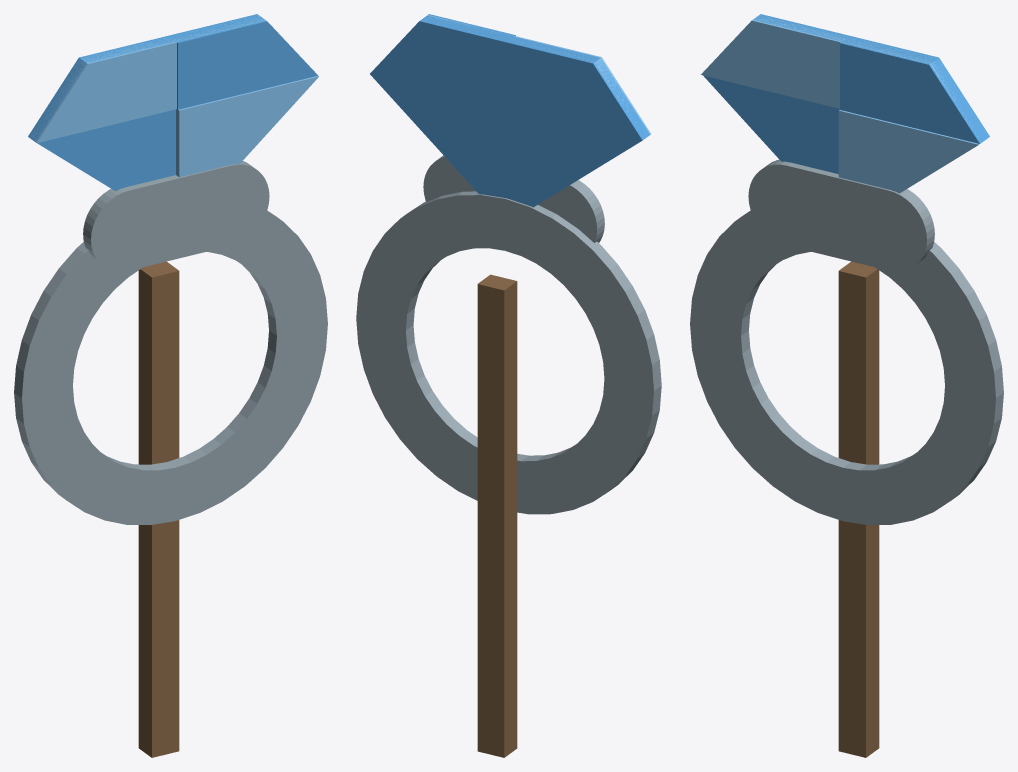
Rendered from bague.glb.
3 views of the same model, side by side, from view 1: azimuth 30°, elevation 25°; view 2: azimuth 150°, elevation 25°; view 3: azimuth 330°, elevation 25° (orthographic). The views are drawn at different scales.
Size of the model in its own units: 0.6667 by 1.5 by 0.105.
